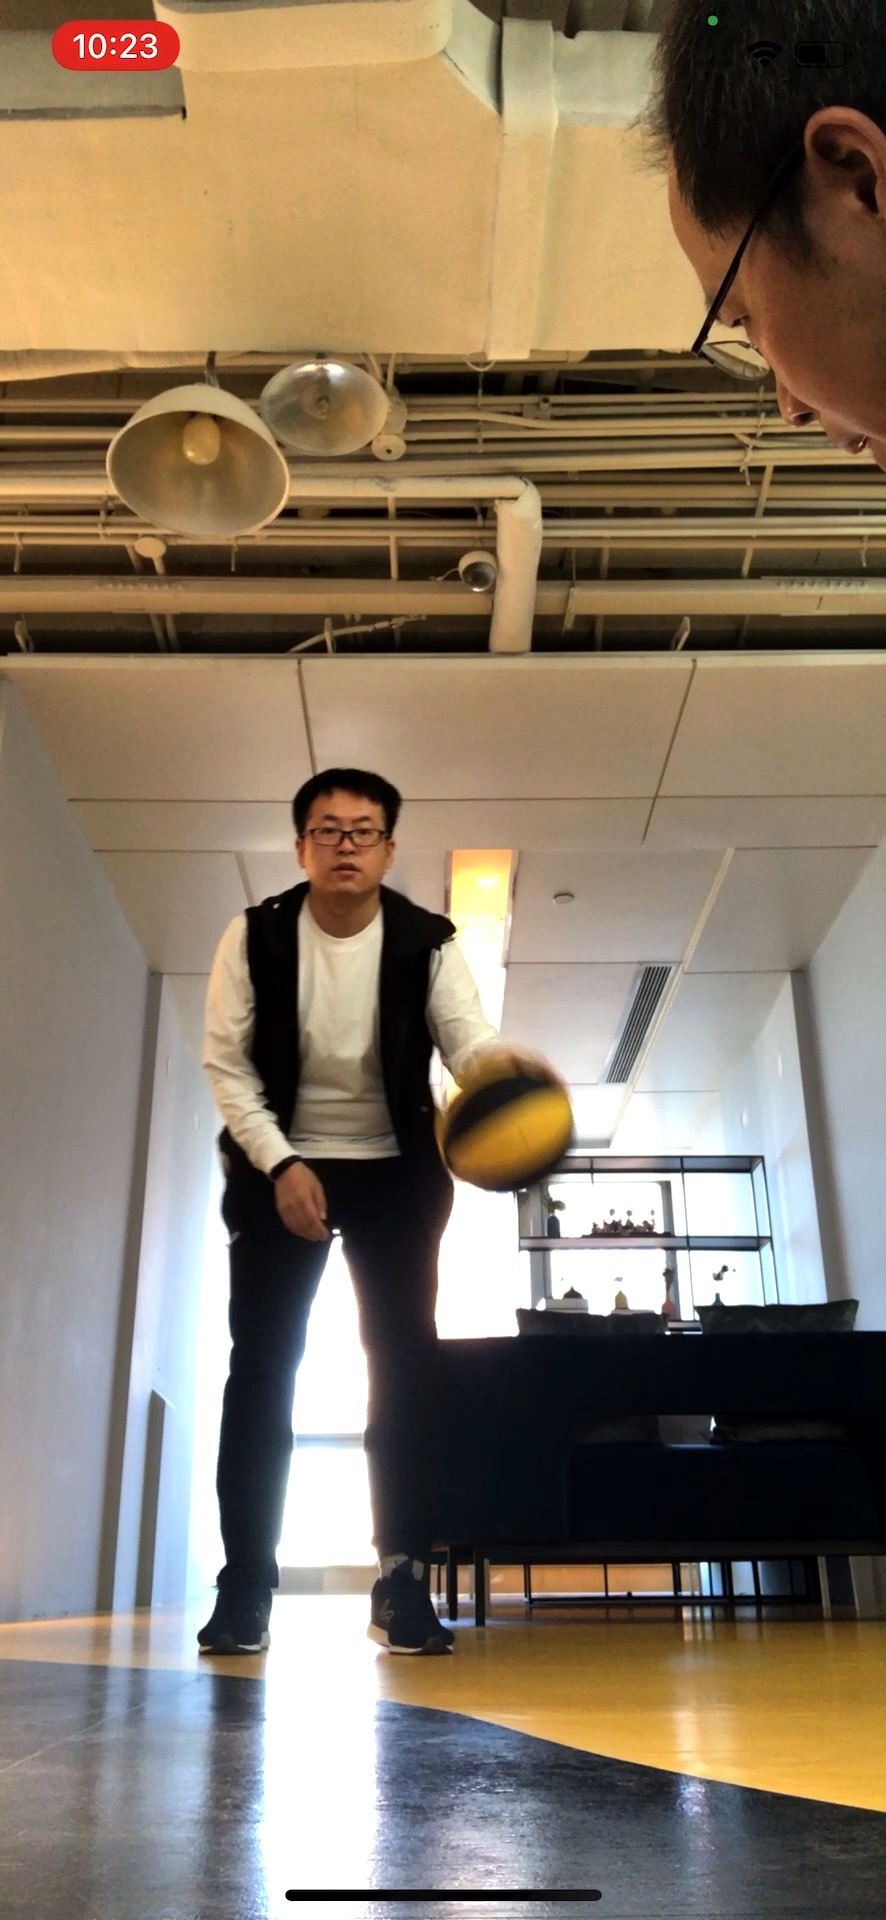ball: (433, 1070, 580, 1190)
